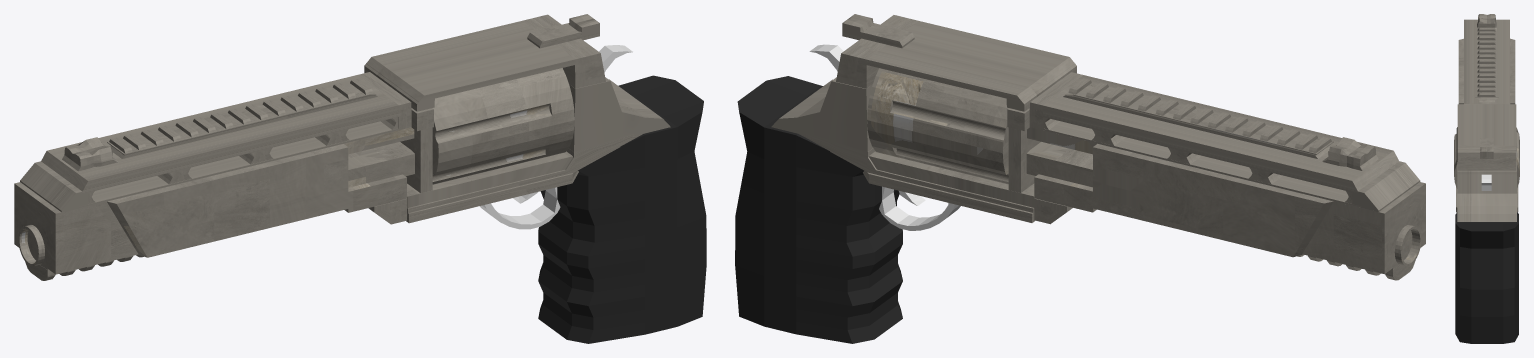
File: RequiemRevolverUpdated.fbx
3 views of the same model, side by side, from view 1: azimuth 30°, elevation 25°; view 2: azimuth 150°, elevation 25°; view 3: azimuth 270°, elevation 25° (orthographic). The views are drawn at different scales.
Parts seen in each view (by area): view 1: Cube.002, Cube.009, Cube.008, rend, Cube.004, Cube.003, Cube.010, Cube.033, Cube, Cube.049, Cube.005, BézierCurve (+3 smaller); view 2: Cube.002, Cube.009, Cube.008, rend, Cube.004, Cube.003, Cube.010, Cube.033, Cube, Cube.049, Cube.005, BézierCurve (+3 smaller); view 3: Cube.002, Cube.004, Cube.003, Cube.008, Cube.009, Cube.033, rend, Cube.049, Cube.032, BézierCurve.001, Cube, Cube.035 (+14 smaller).
Part boxes in pixels (x1,y1,x2,y2): Cube.002: [538, 75, 706, 343]; Cube.009: [107, 127, 414, 257]; Cube.008: [20, 72, 411, 212]; rend: [432, 68, 574, 184]; Cube.004: [364, 14, 605, 111]; Cube.003: [407, 77, 670, 212]; Cube.010: [14, 182, 138, 274]; Cube.033: [107, 82, 377, 158]; Cube: [406, 171, 578, 223]; Cube.049: [527, 14, 599, 48]; Cube.005: [400, 127, 432, 193]; BézierCurve: [479, 187, 560, 229]; Cube.002: [735, 76, 902, 343]; Cube.009: [1026, 127, 1333, 257]; Cube.008: [1029, 72, 1420, 211]; rend: [867, 68, 1008, 184]; Cube.004: [836, 15, 1076, 111]; Cube.003: [771, 77, 1034, 212]; Cube.010: [1302, 182, 1425, 274]; Cube.033: [1063, 82, 1333, 158]; Cube: [863, 171, 1034, 222]; Cube.049: [842, 14, 914, 48]; Cube.005: [1008, 127, 1040, 192]; BézierCurve: [879, 186, 960, 230]; Cube.002: [1455, 212, 1518, 343]; Cube.004: [1457, 104, 1516, 170]; Cube.003: [1457, 162, 1516, 221]; Cube.008: [1464, 19, 1509, 104]; Cube.009: [1458, 38, 1515, 104]; Cube.033: [1475, 29, 1498, 102]; rend: [1454, 127, 1519, 188]; Cube.049: [1480, 138, 1493, 158]; Cube.032: [1477, 14, 1496, 30]; BézierCurve.001: [1481, 174, 1491, 190]; Cube: [1456, 186, 1518, 212]; Cube.035: [1477, 88, 1495, 92].
Size of the model in its own units: 391 by 171 by 60.59.
